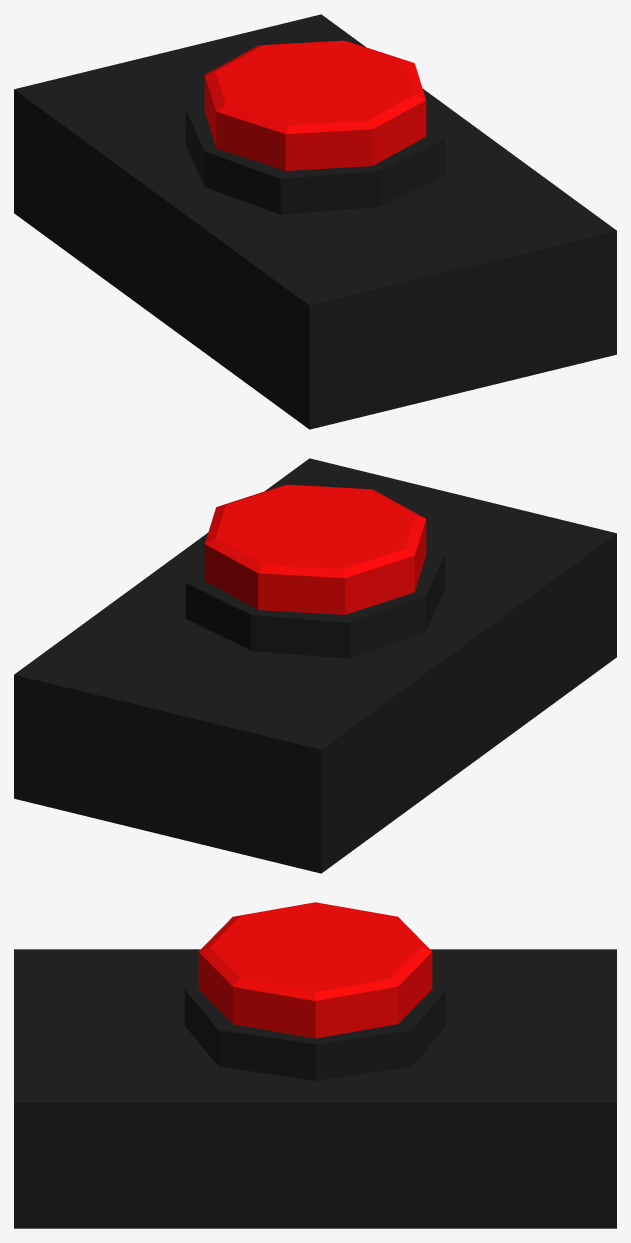
Rendered from redbutton.gltf.
3 views of the same model, one above another, from view 1: azimuth 30°, elevation 25°; view 2: azimuth 150°, elevation 25°; view 3: azimuth 270°, elevation 25° (orthographic).
Parts seen in each view (by area): view 1: node-0; view 2: node-0; view 3: node-0.
Part boxes in pixels (left/top/right/bottom): node-0: left=14, top=14, right=616, bottom=429; node-0: left=14, top=458, right=616, bottom=873; node-0: left=14, top=902, right=616, bottom=1228.
Bounding box in the file's own units: 1.04 × 0.6488 × 1.73.
